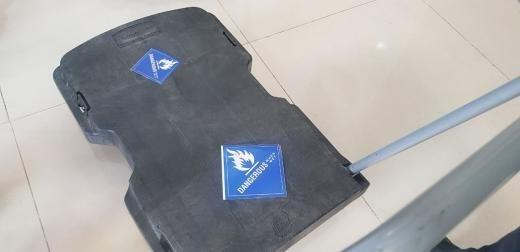dangerous-when-wet: (222, 144, 287, 200), (128, 48, 183, 86)
